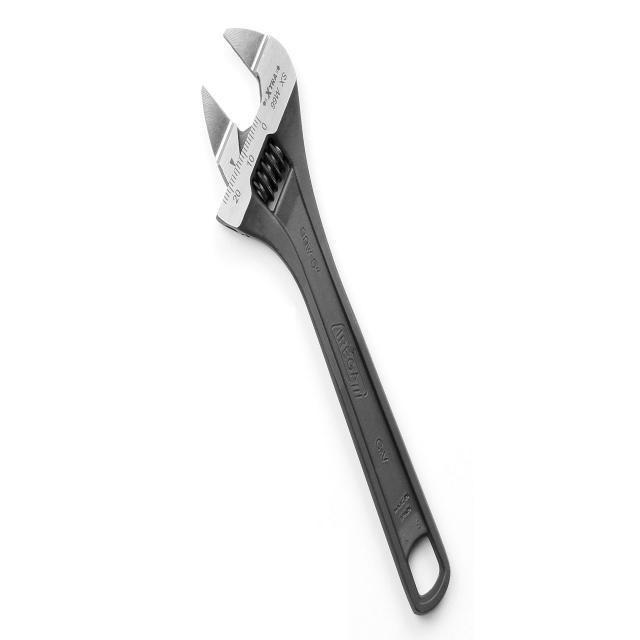wrench: (201, 24, 454, 618)
